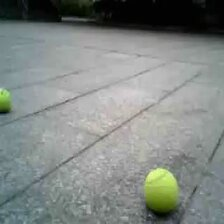tennis: (144, 166, 181, 211), (1, 88, 12, 113)
